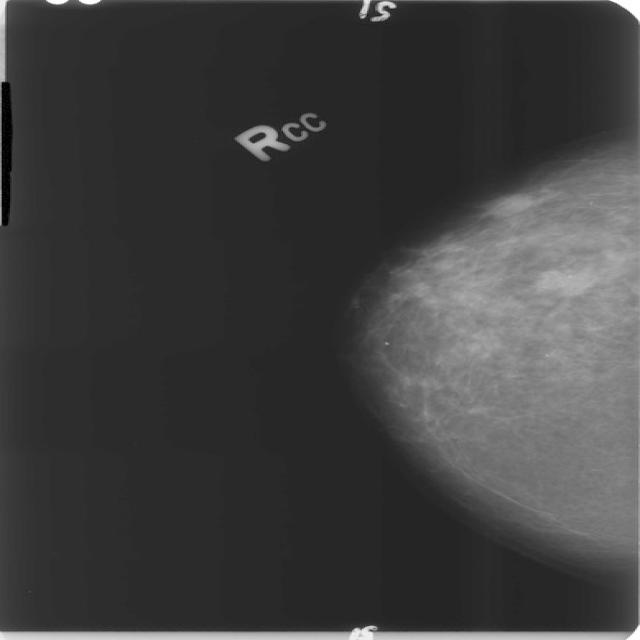tumour: (476, 192, 533, 216)
